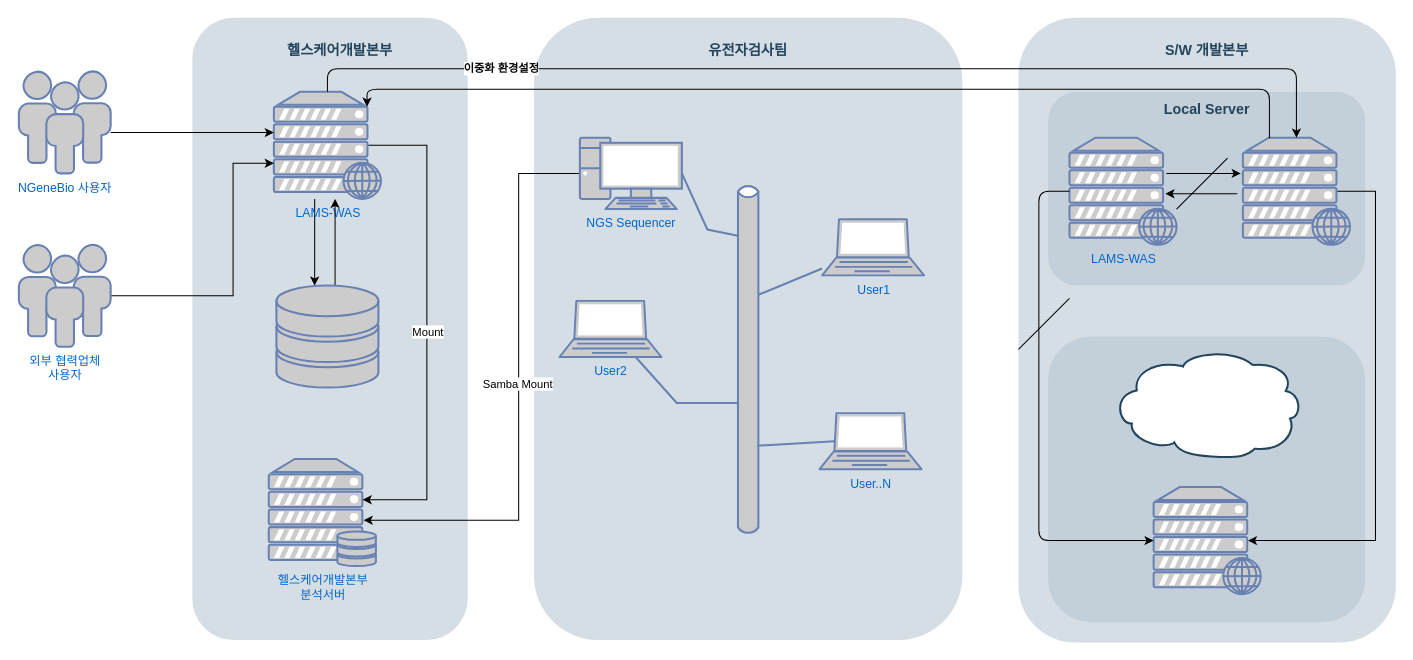
This 1413x660 diagram has some shape labels left out. Here are the shapes that lost their labels. From the top down, the centre of each, then its label:
(1295,190): LAMS-WAS 이중화
(327,336): LAMS-DB
(1207,403): Google Cloud
(1206,540): API
